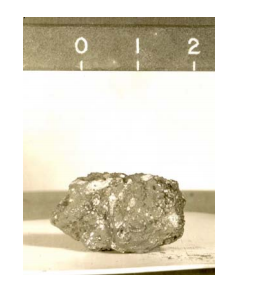Breccia: (29, 151, 200, 254)
